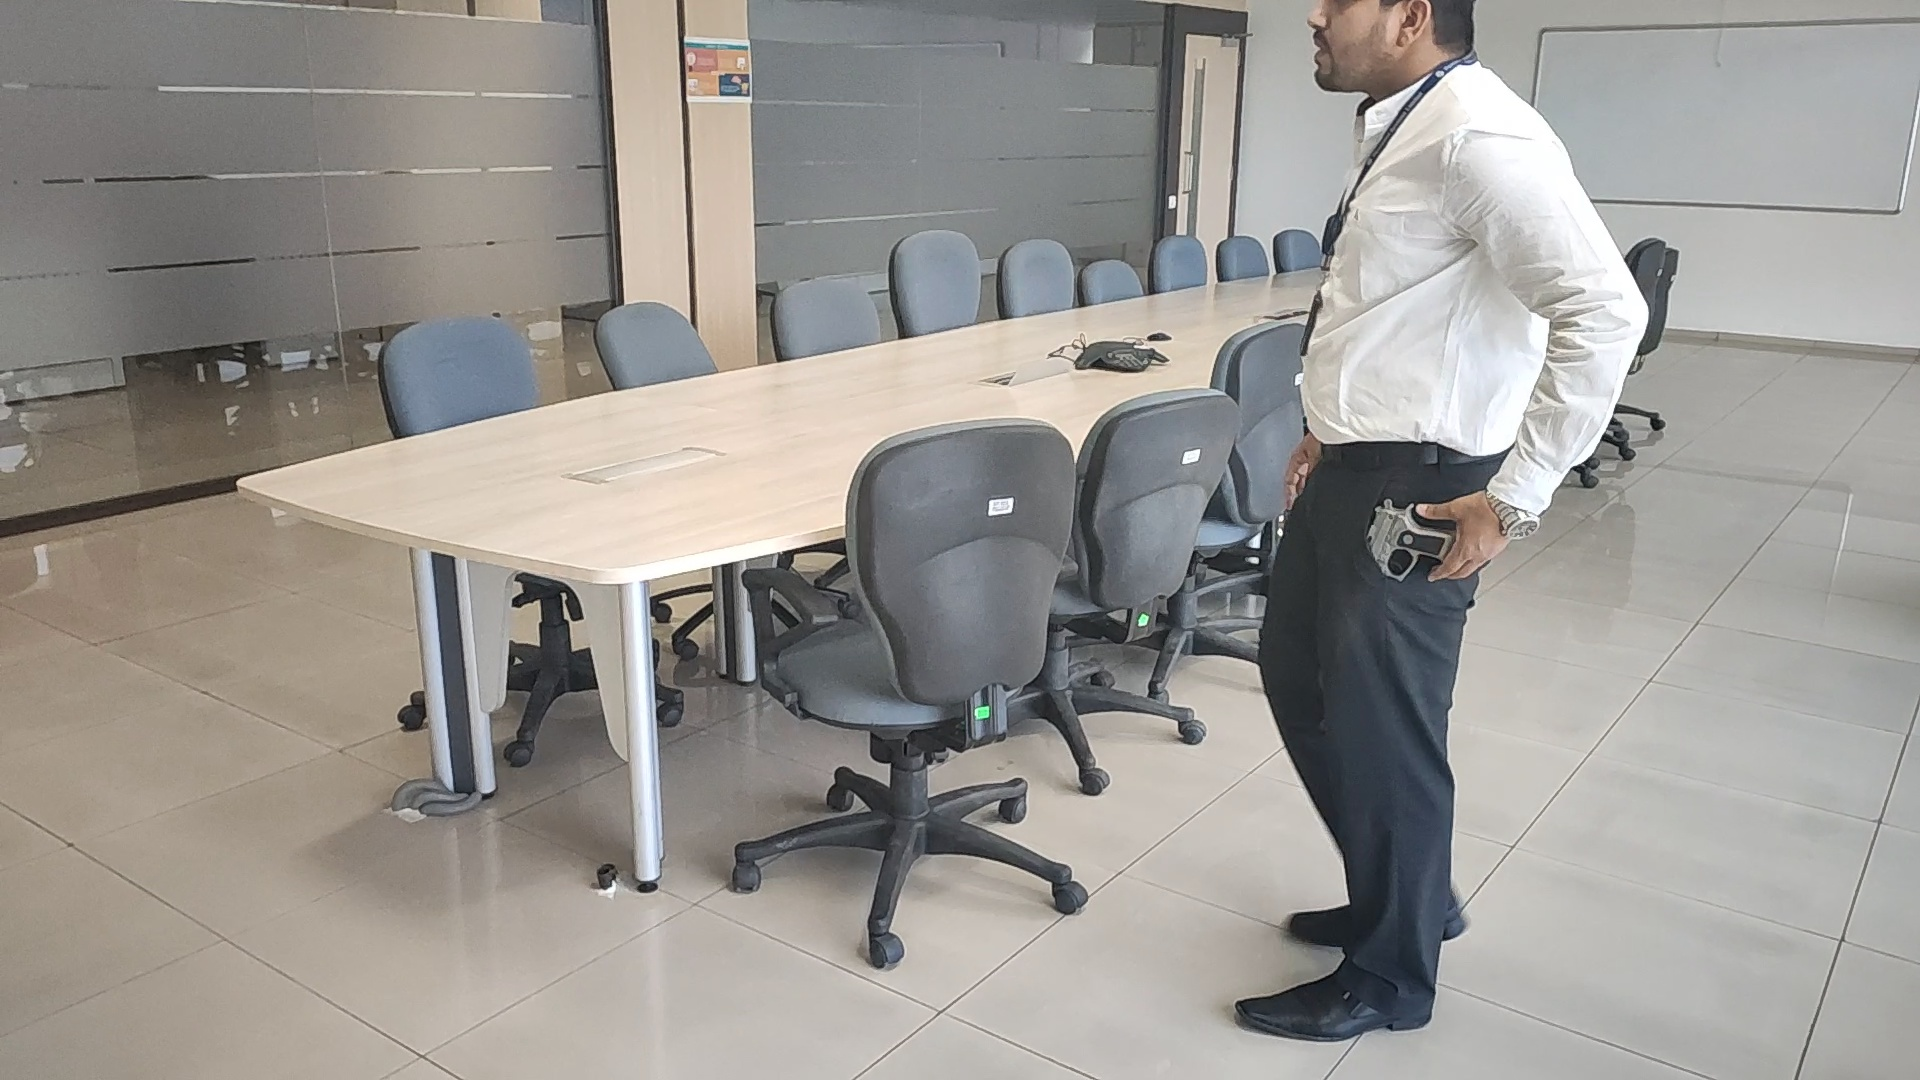gun: (1367, 495, 1451, 584)
